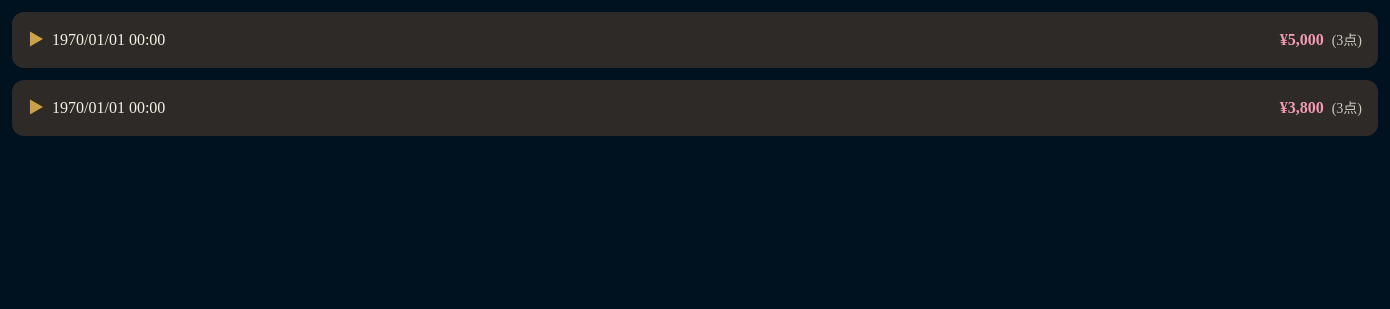
Test: OrderList › 1件ずつ、独立して開閉できる
Click the button "▶ 1970/01/01 00:00 ¥5,000(3点)".
click(109, 40)  # box [12,12,1378,68]
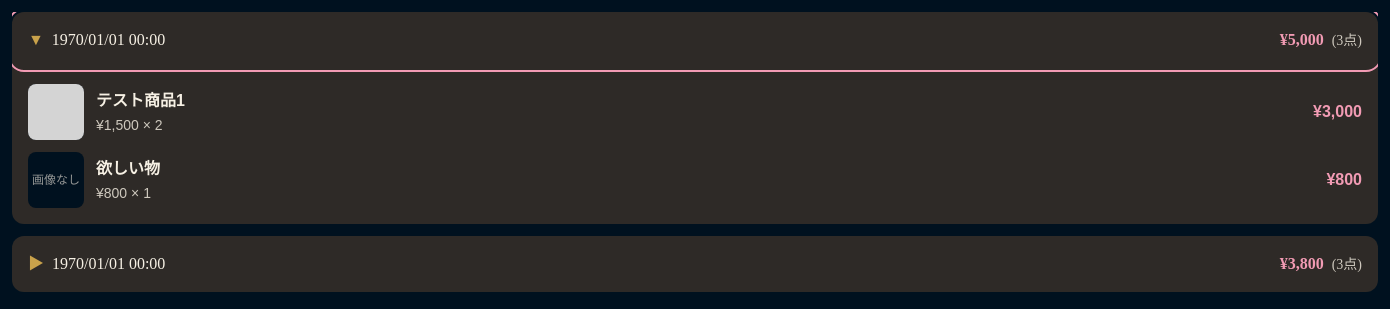
Expected: the button "▼ 1970/01/01 00:00 ¥5,000(3点)" is expanded, [12,12,1378,68]
